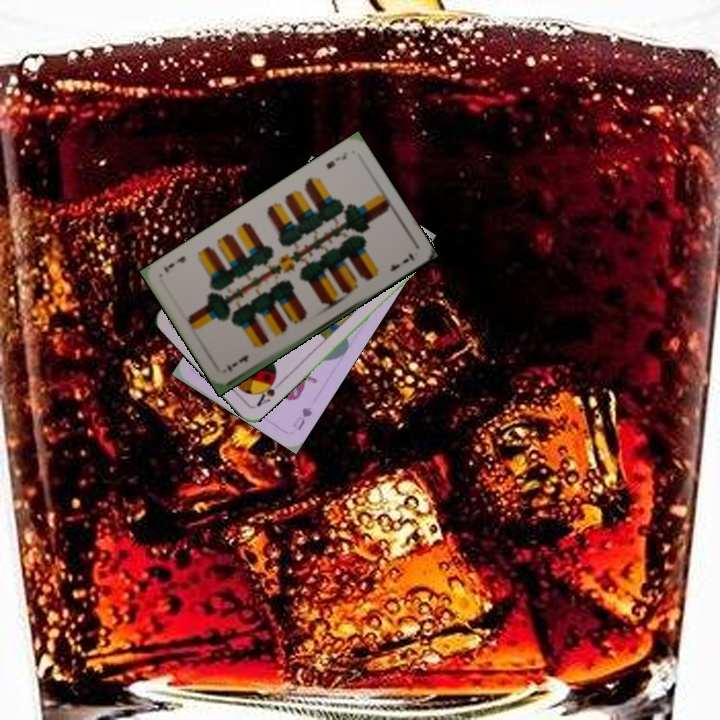E7: (223, 351, 251, 375), (322, 148, 350, 171)
GU: (289, 403, 315, 433)
SA: (252, 374, 284, 409)
